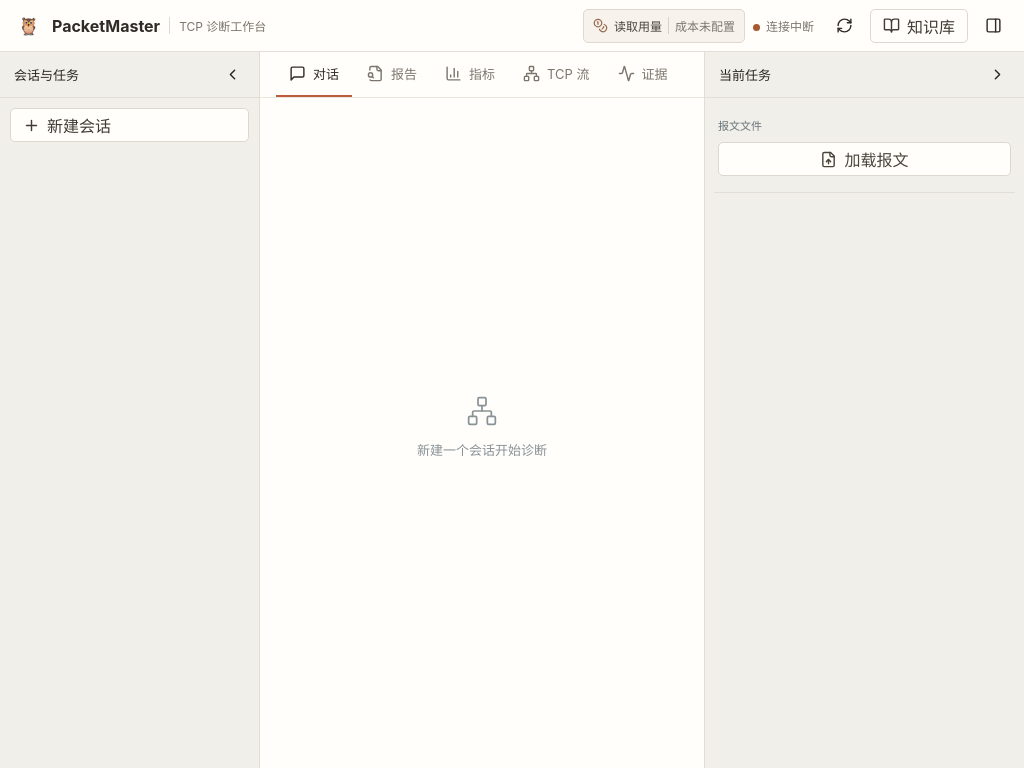
Scenario: 可从工作台进入知识管理视图
Click the button "知识库": point(919, 26) x1=870 y1=8 x2=968 y2=42
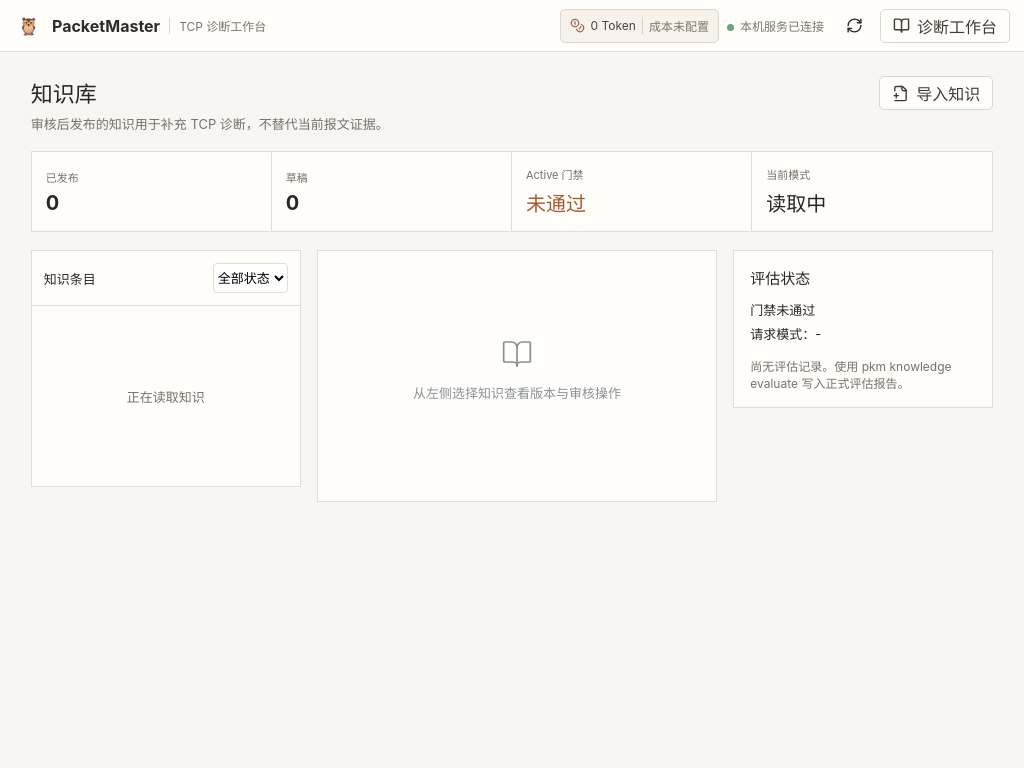
Expected: the heading "知识库" is shown, x1=31 y1=81 x2=97 y2=107
Expected: the button "导入知识" is shown
Expected: the text "Active 门禁" is shown, x1=526 y1=168 x2=584 y2=182
Click the button "导入知识": point(936, 93) x1=879 y1=76 x2=993 y2=110
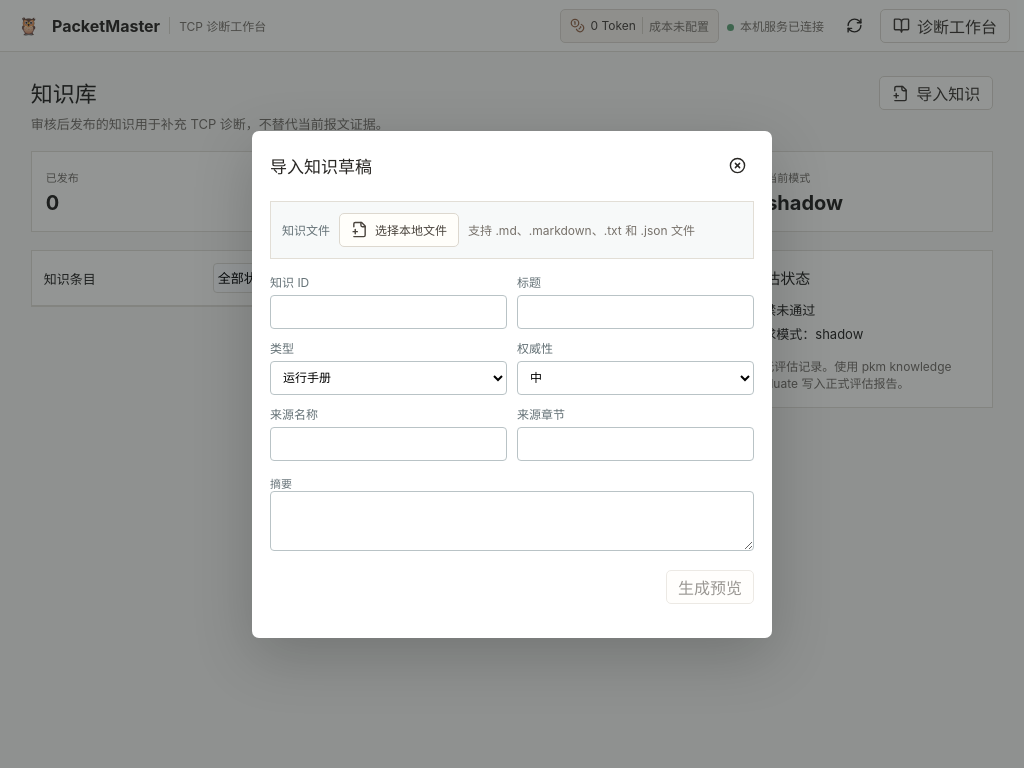
Expected: the button "选择本地文件" is shown, x1=339 y1=212 x2=459 y2=246
